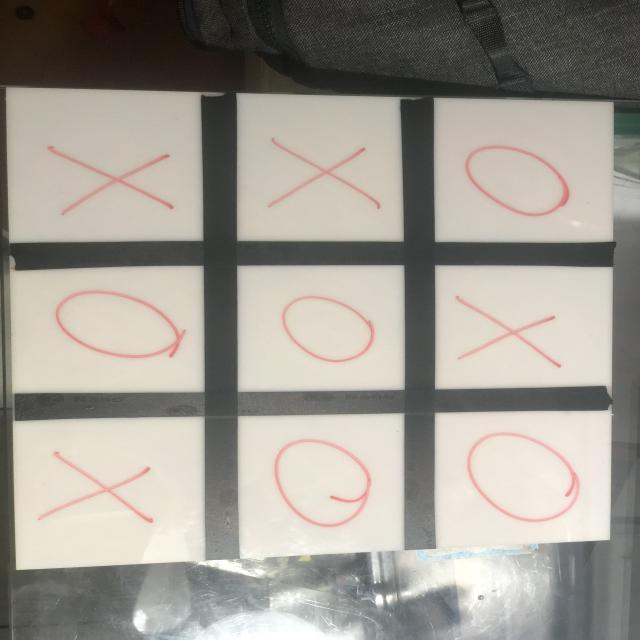o: (462, 429, 590, 526), (267, 430, 373, 530), (53, 291, 189, 360), (465, 143, 571, 222), (281, 294, 379, 365)
table: (0, 85, 616, 577)
x: (268, 129, 383, 219), (46, 146, 182, 217), (37, 450, 155, 531), (452, 298, 560, 370)
